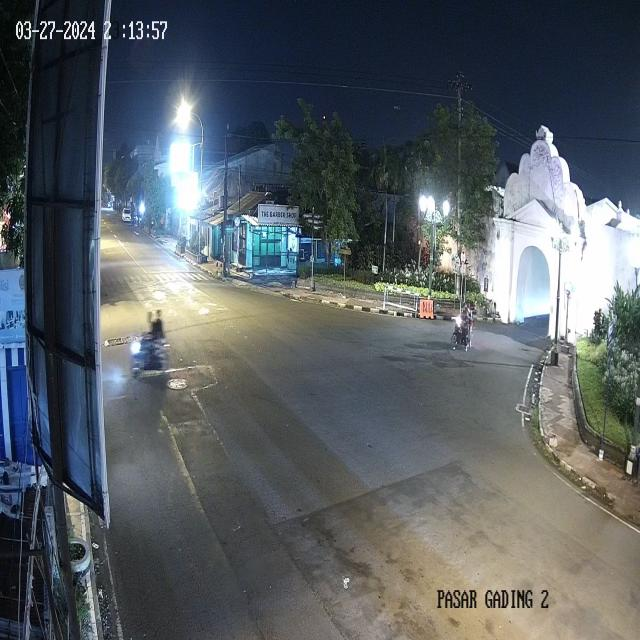motorcycle: (130, 309, 169, 381), (448, 297, 476, 356)
